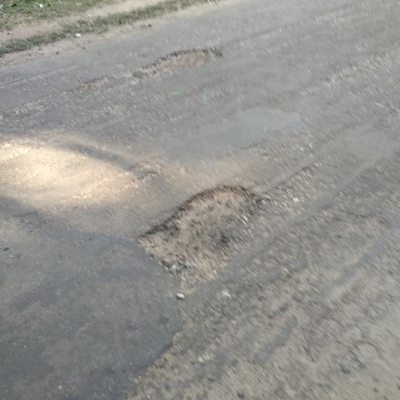pothole: (132, 181, 264, 287), (139, 46, 225, 77)
